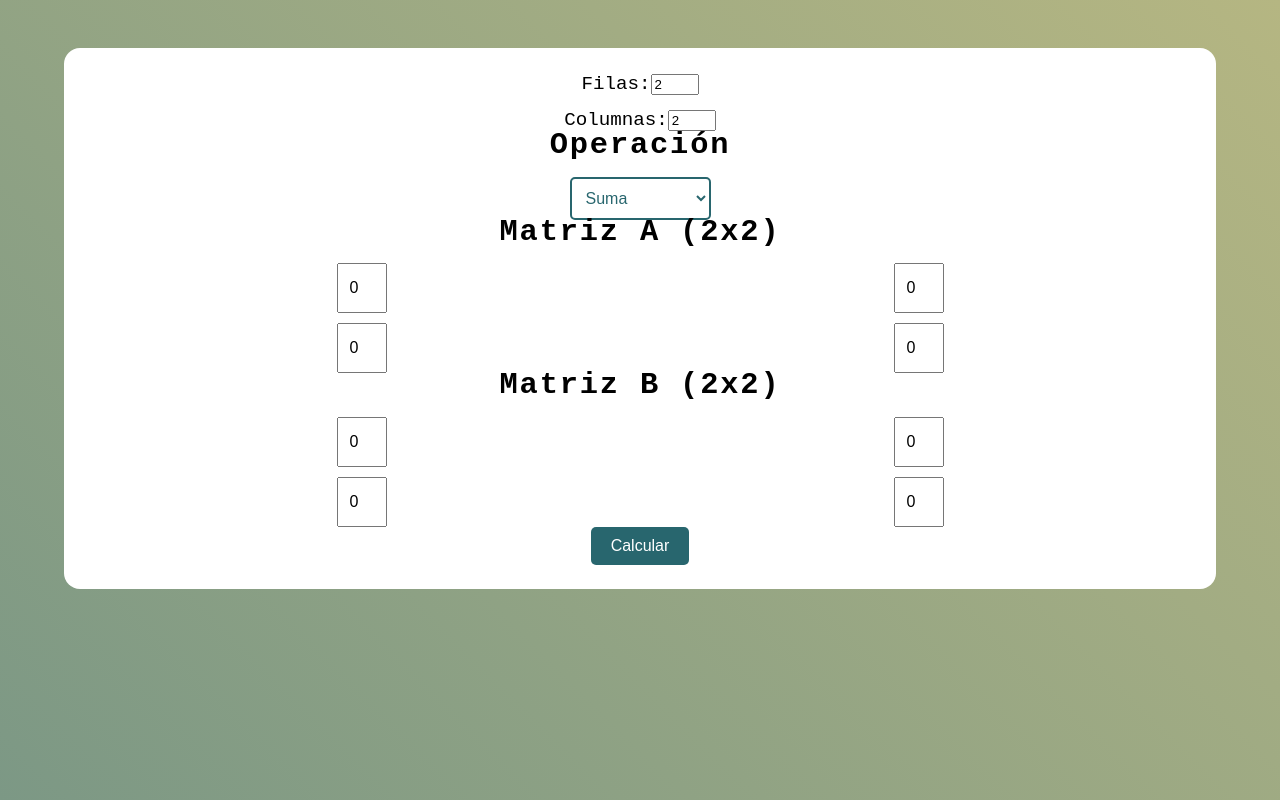
Test: MatrixCalculator › debería mostrar el mensaje de "No tiene inversa" si el determinante es 0
Replace the text in the number field named "input-A-0-0" with "1": coordinates (362, 288) [336, 263, 386, 313]
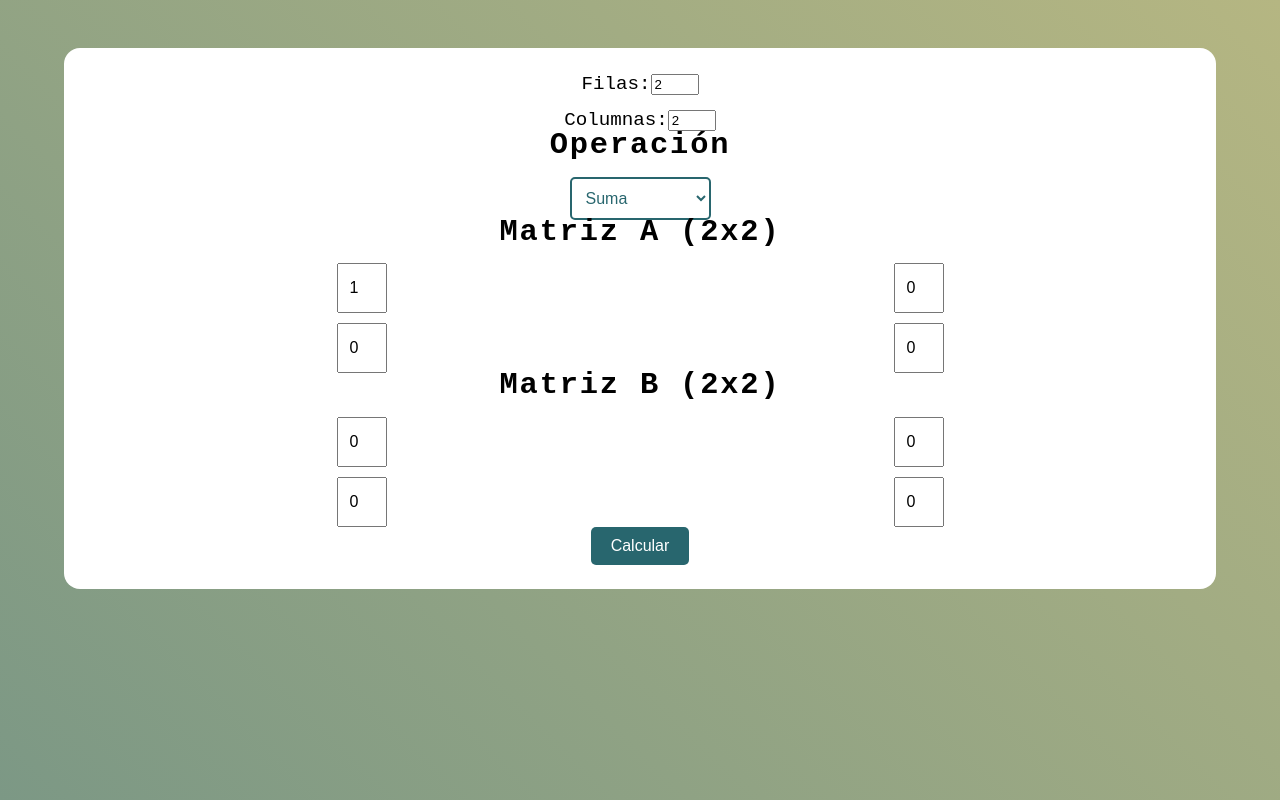
Replace the text in the number field named "input-A-0-1" with "2": coordinates (918, 288) [894, 263, 944, 313]
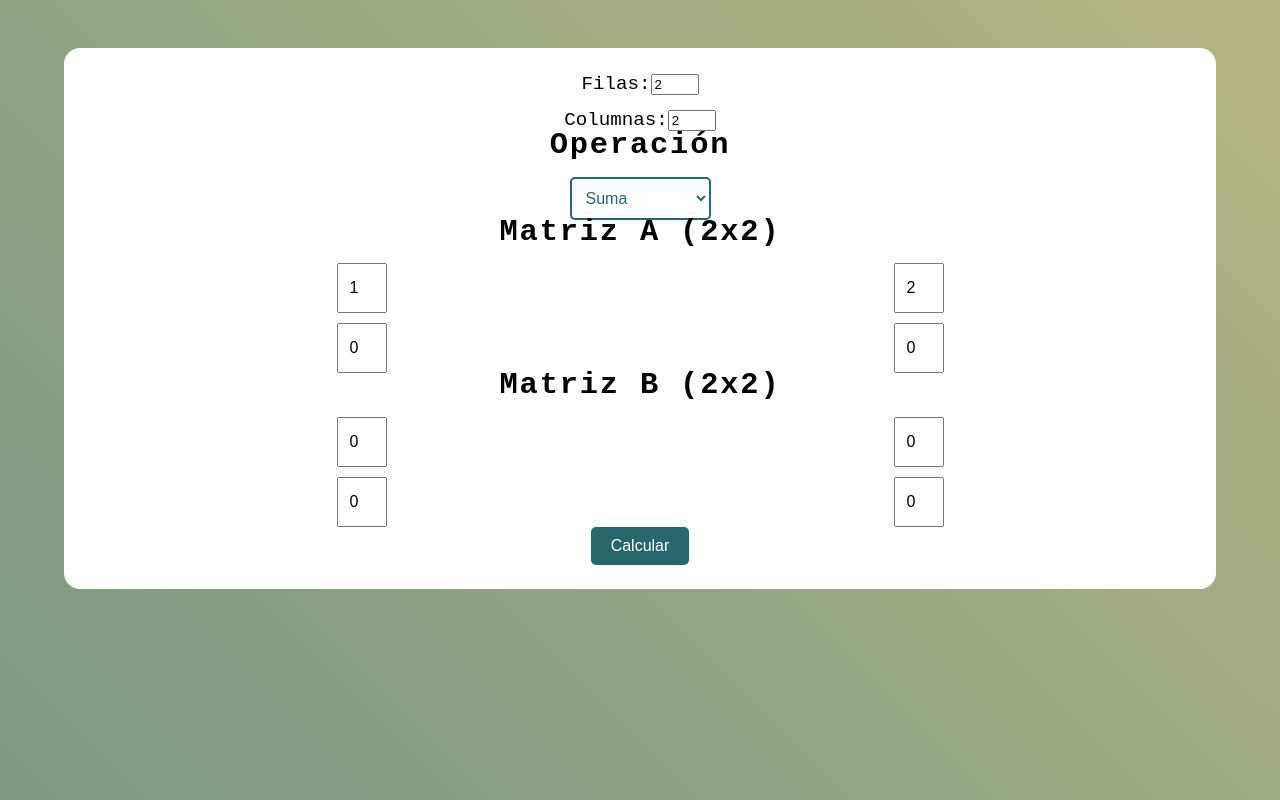
Replace the text in the number field named "input-A-1-0" with "2": coordinates (362, 348) [336, 323, 386, 373]
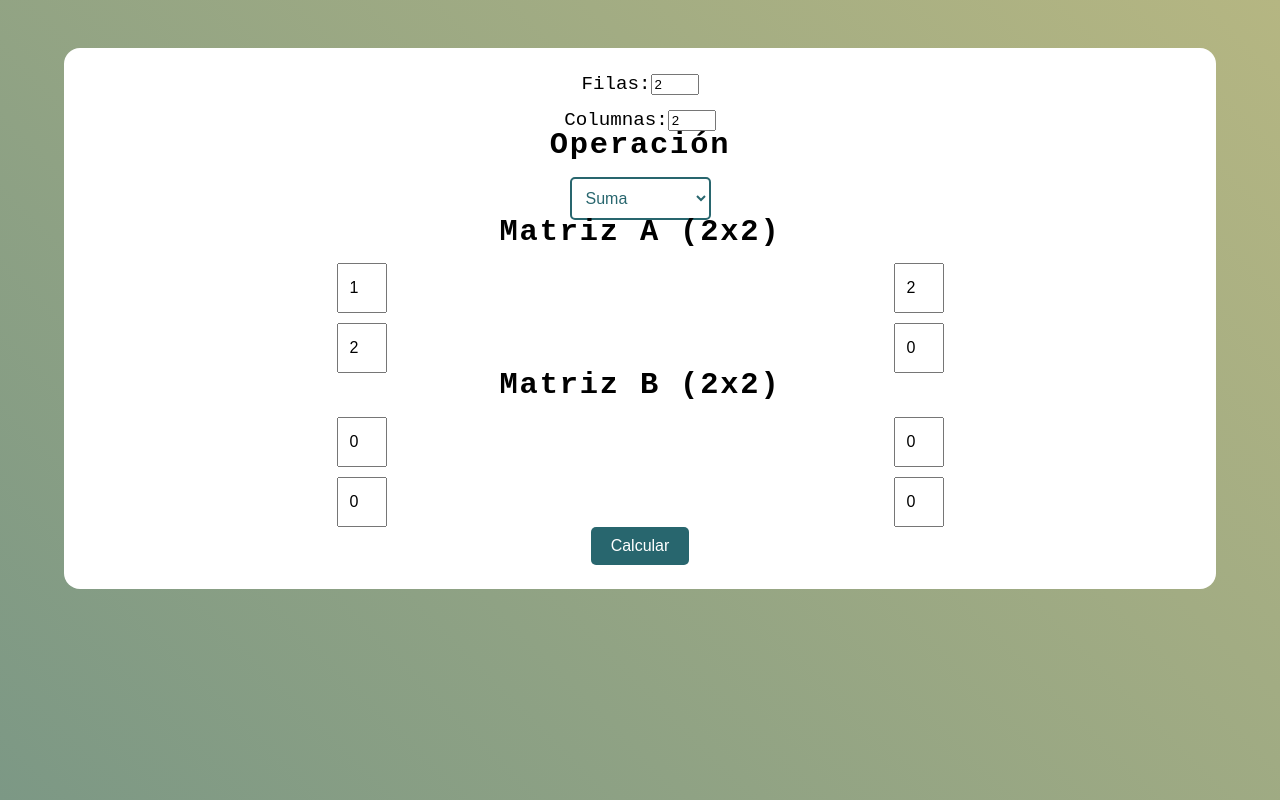
Replace the text in the number field named "input-A-1-1" with "4": coordinates (918, 348) [894, 323, 944, 373]
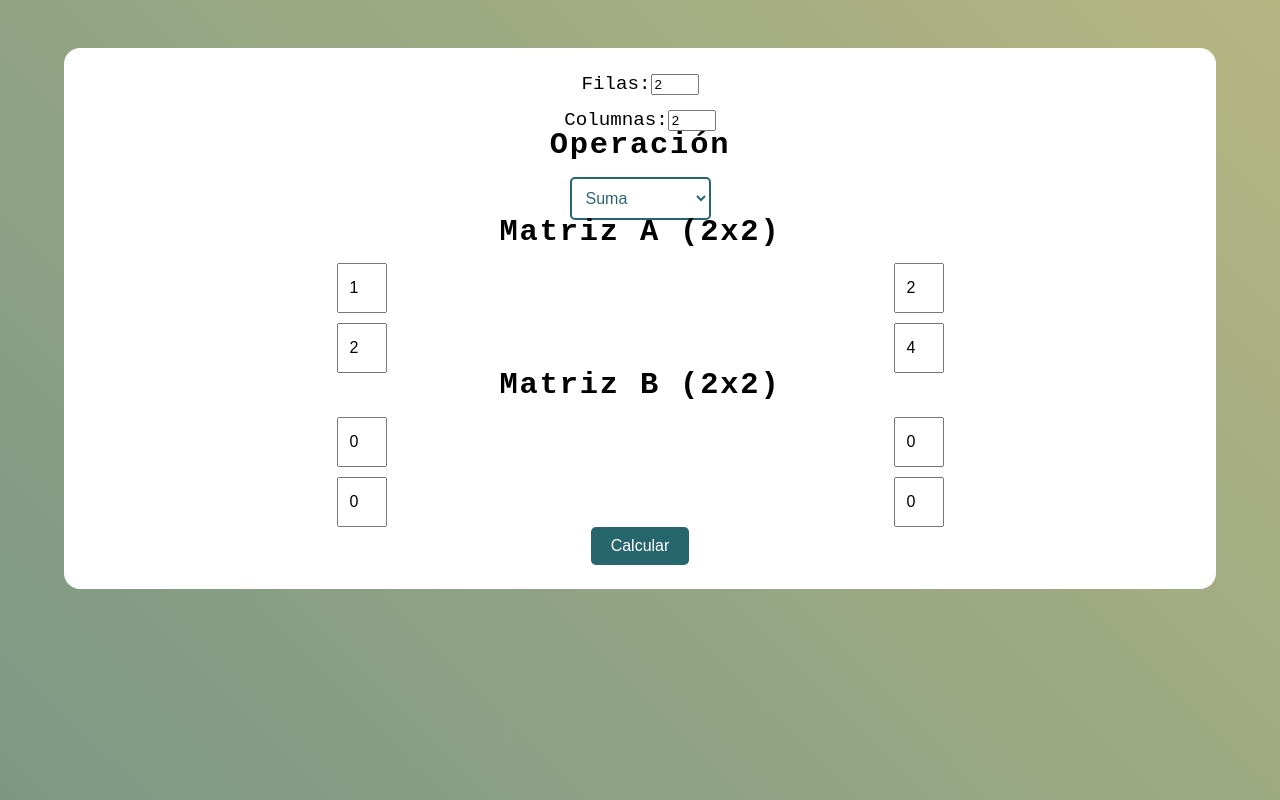
Select "Inversa" in the dropdown named "selector-operacion": coordinates (640, 198) [570, 177, 710, 220]
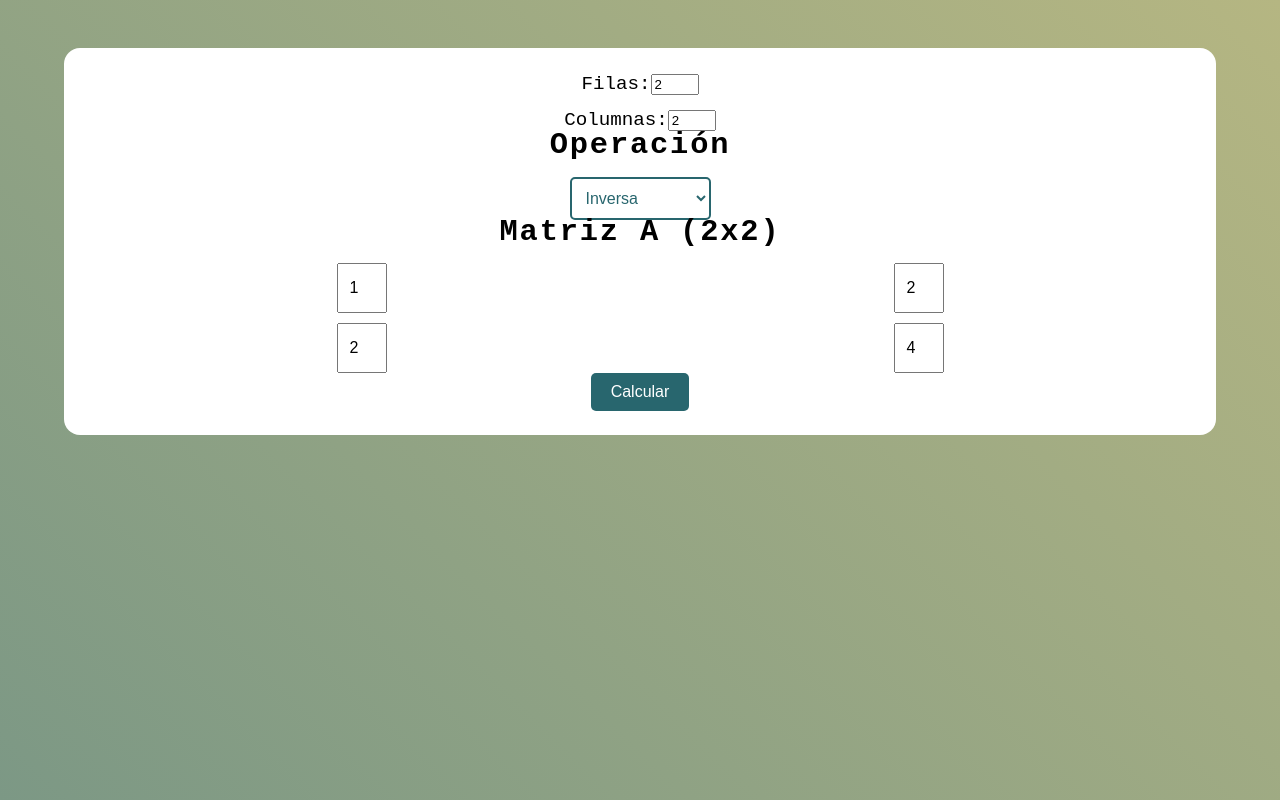
Click the button with aria-label "calcular-operacion": coordinates (640, 392) [591, 373, 689, 411]
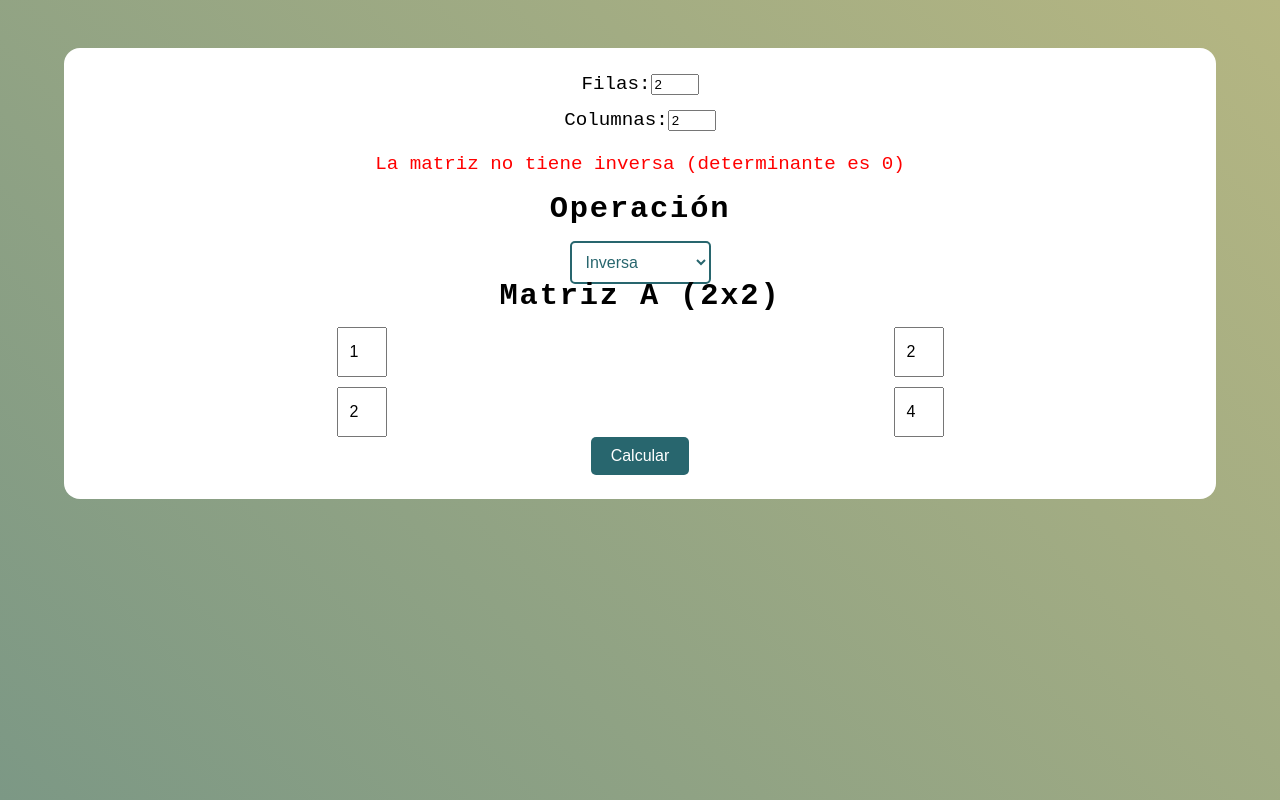
Check: the text "La matriz no tiene inversa (determinante es 0)" is shown, box [375, 153, 905, 175]
